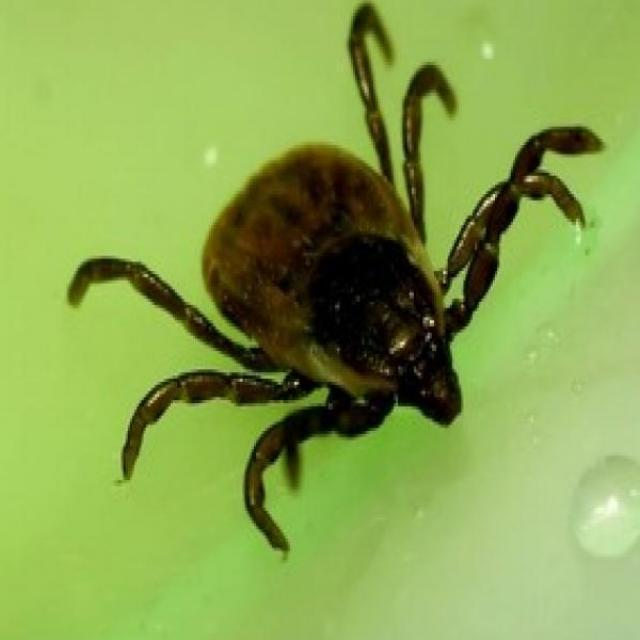Rhipicephalus Sanguineus-F: (71, 0, 608, 557)
